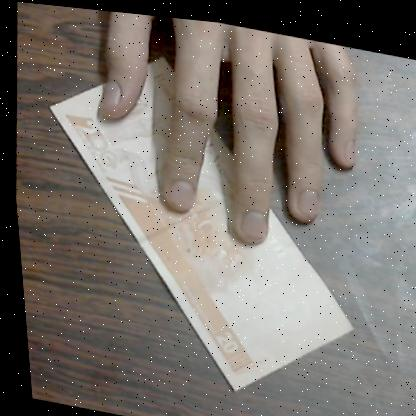twenty-back-vef: (15, 1, 383, 414)
